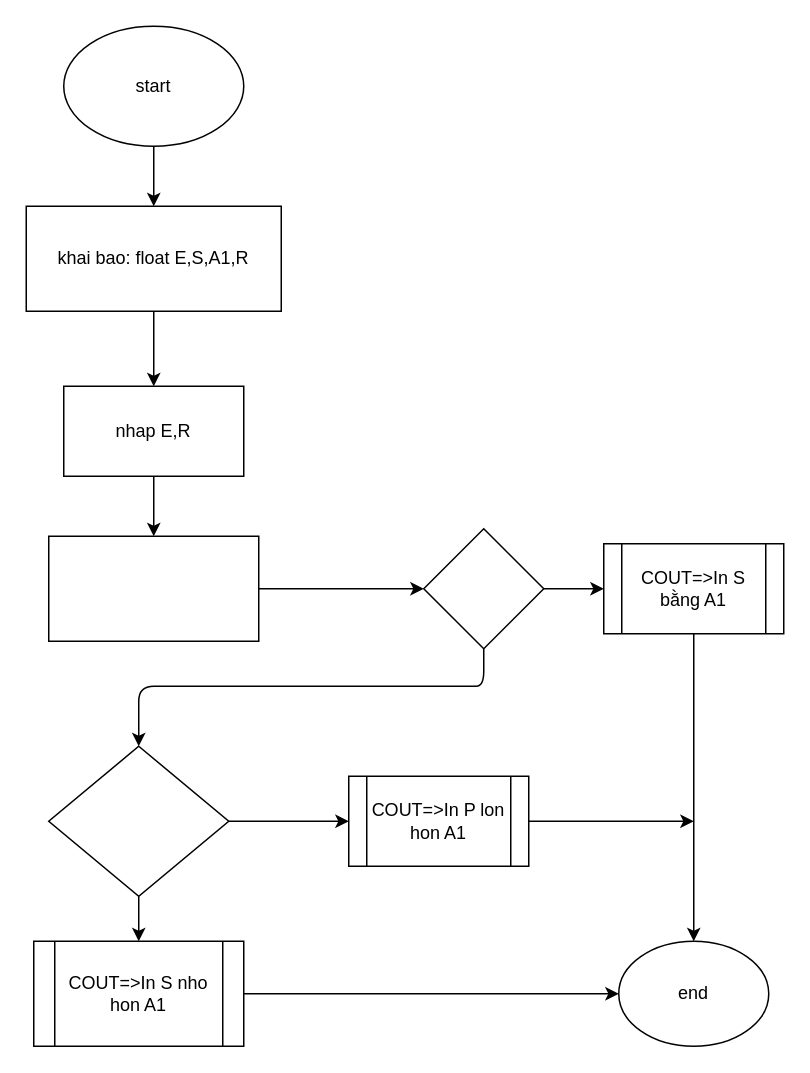
Image size: 810x1073. Some labels were removed from this diagram. Each missing label, with the box of its shape:
S=3,14*R*R A1=E*E: (47, 535, 259, 641)
S=A1: (422, 527, 544, 649)
S>A1: (47, 745, 229, 896)
